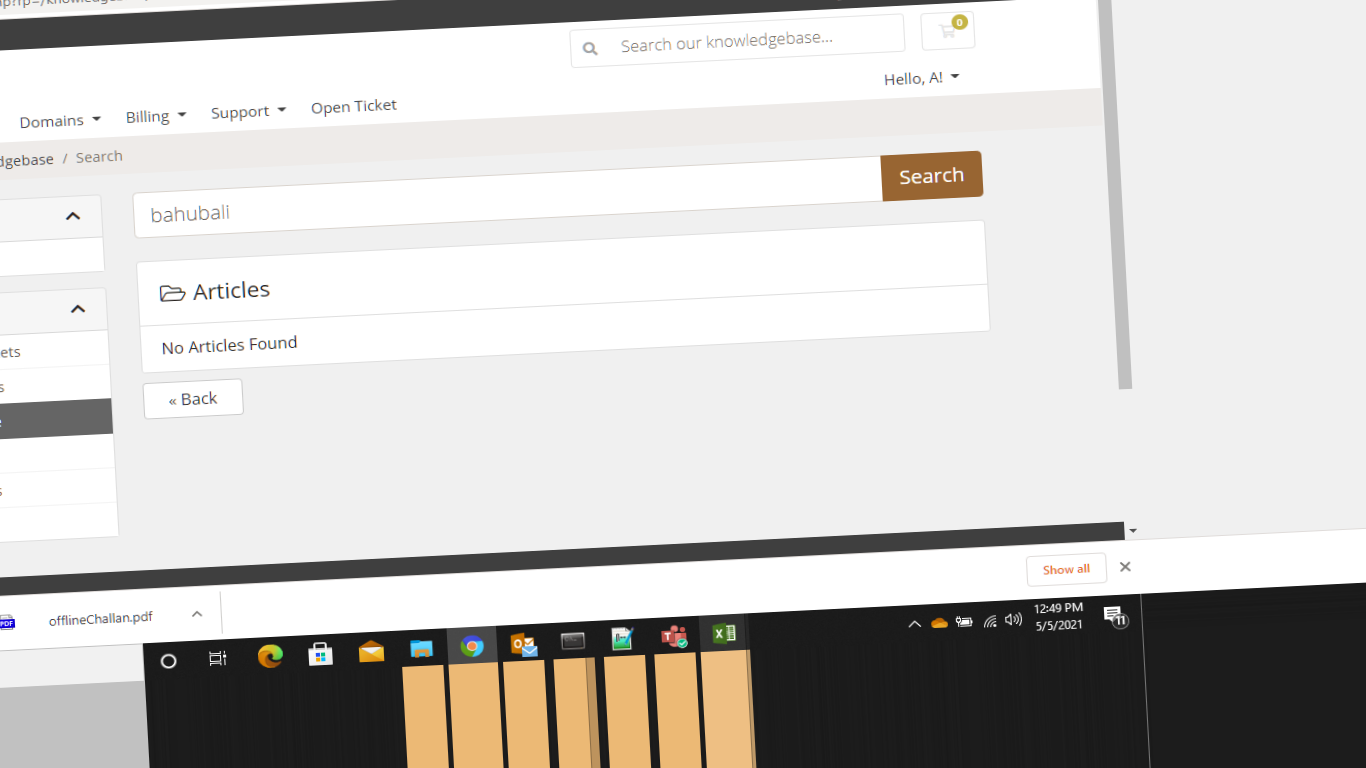backbutton: (122, 374, 257, 418)
profileicon: (864, 59, 983, 100)
searchicon: (570, 38, 609, 63)
searchtextbox: (129, 155, 885, 229), (568, 16, 909, 67)
